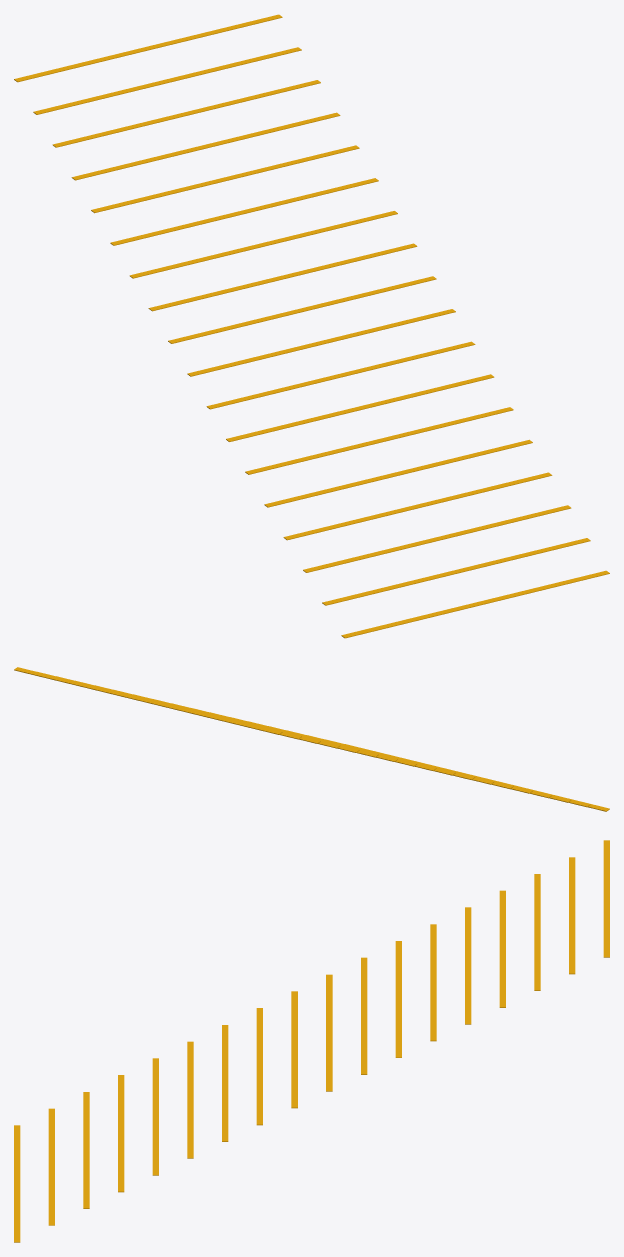
The model's file is gteki_stair_nosing_w2400_n18.glb.
The picture shows the model from 3 angles, top to bottom: view 1: azimuth 30°, elevation 25°; view 2: azimuth 150°, elevation 25°; view 3: azimuth 270°, elevation 25°; orthographic projection. The views are drawn at different scales.
Parts seen in each view (by area): view 1: VIS_body; view 2: VIS_body; view 3: VIS_body.
Part boxes in pixels (x1,y1,x2,y2): VIS_body: (14, 14, 609, 638); VIS_body: (14, 667, 609, 811); VIS_body: (14, 840, 609, 1242).
Size of the model in its own units: 2.38 by 2.73 by 5.15.
1 material, 1 textured.
